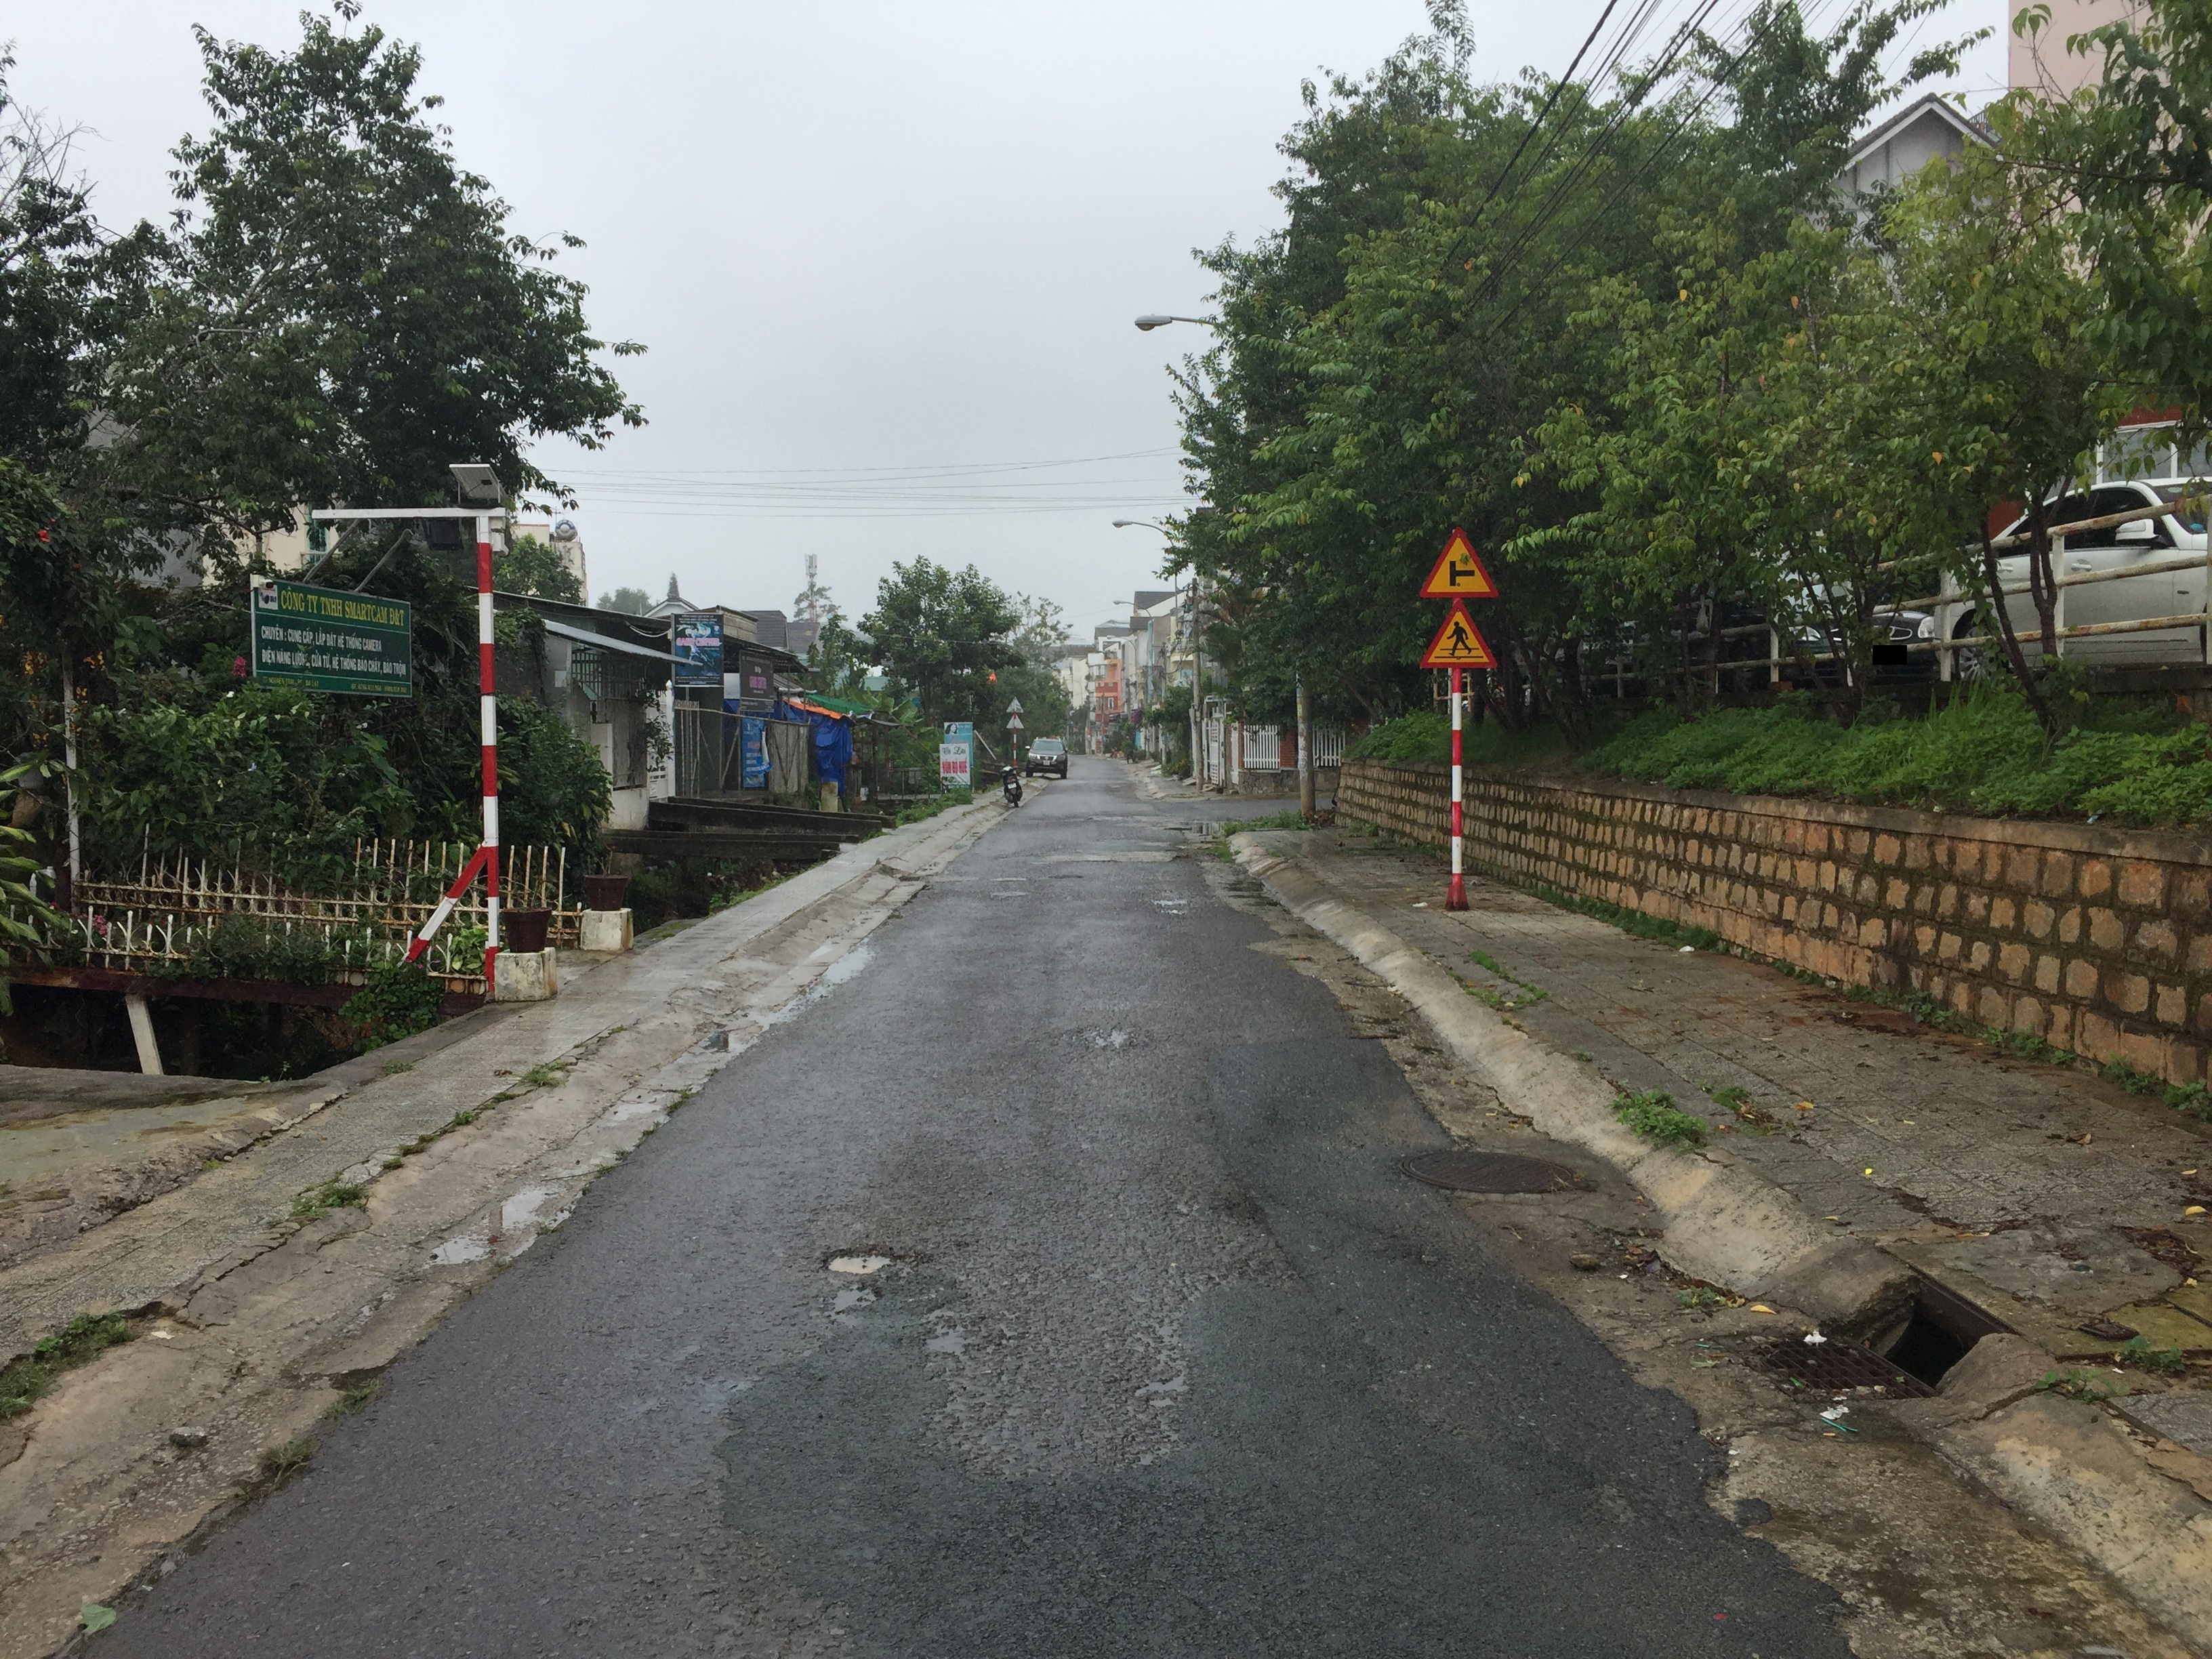hole: (820, 1239, 909, 1274), (826, 1284, 892, 1316)
